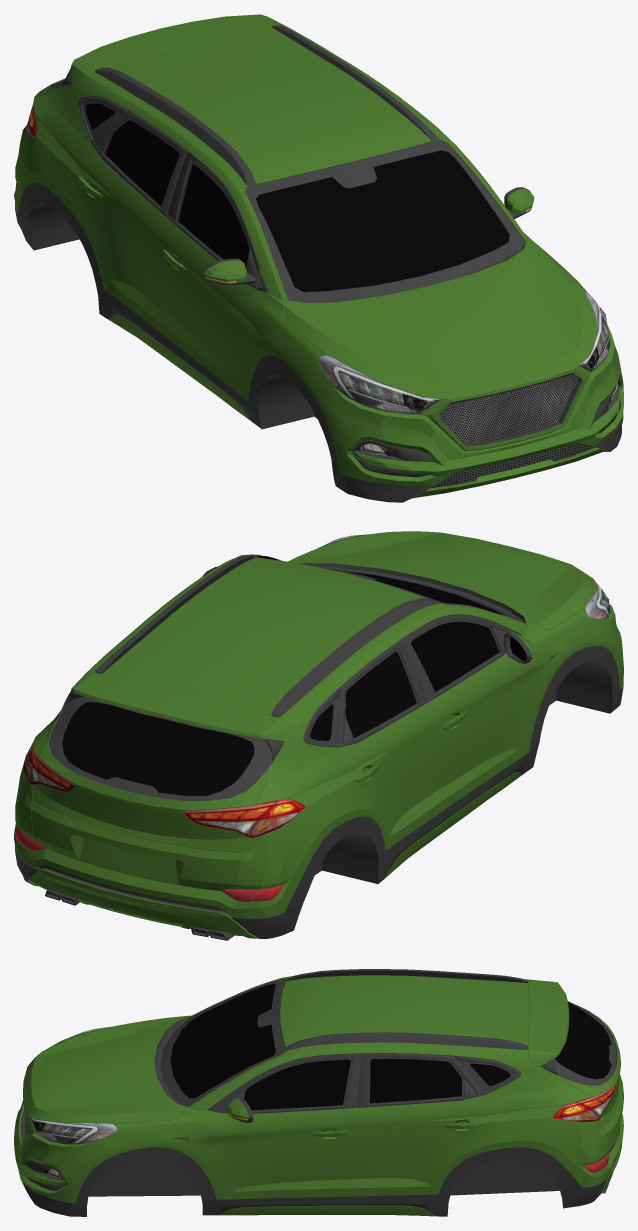
File: Suv_2.fbx
3 views of the same model, one above another, from view 1: azimuth 30°, elevation 25°; view 2: azimuth 150°, elevation 25°; view 3: azimuth 270°, elevation 25° (orthographic). The views are drawn at different scales.
Visible parts, largest first — view 1: Suv_2; view 2: Suv_2; view 3: Suv_2.
Part boxes in pixels (left/top/right/bottom): Suv_2: left=14, top=14, right=623, bottom=502; Suv_2: left=14, top=531, right=623, bottom=940; Suv_2: left=14, top=969, right=623, bottom=1216.
Bounding box in the file's own units: 95.59 × 59.17 × 200.
4 materials, 2 textured.
